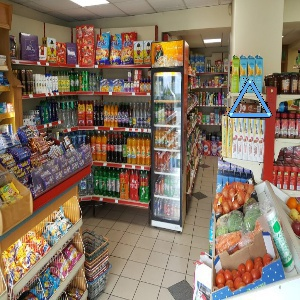triangle: (223, 75, 275, 121)
